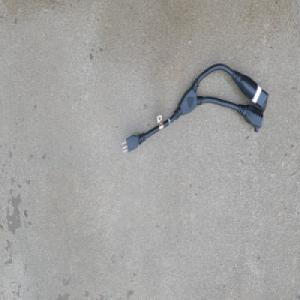Wire: (119, 61, 269, 155)
